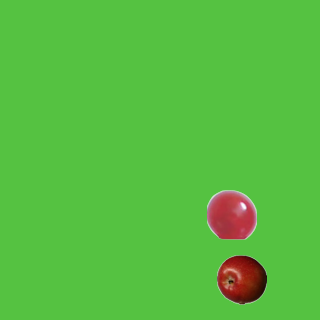Apple Braeburn: (216, 254, 266, 304)
Redcurrant: (206, 189, 256, 239)
